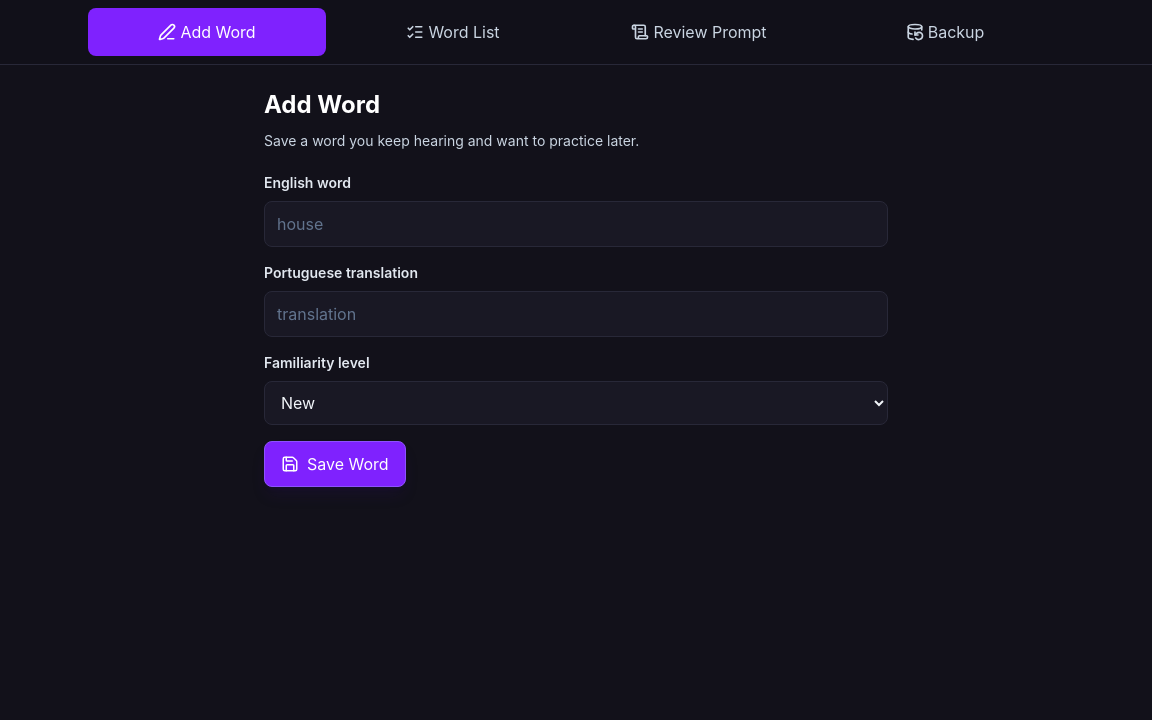
Test: WordCatcher app › deletes a word after confirmation
The width and height of the screenshot is (1152, 720).
In the field labelled "English word": (576, 224) top-left (264, 201), bottom-right (888, 247), type "delete"
In the field labelled "Portuguese translation": (576, 314) top-left (264, 291), bottom-right (888, 337), type "remove meaning"
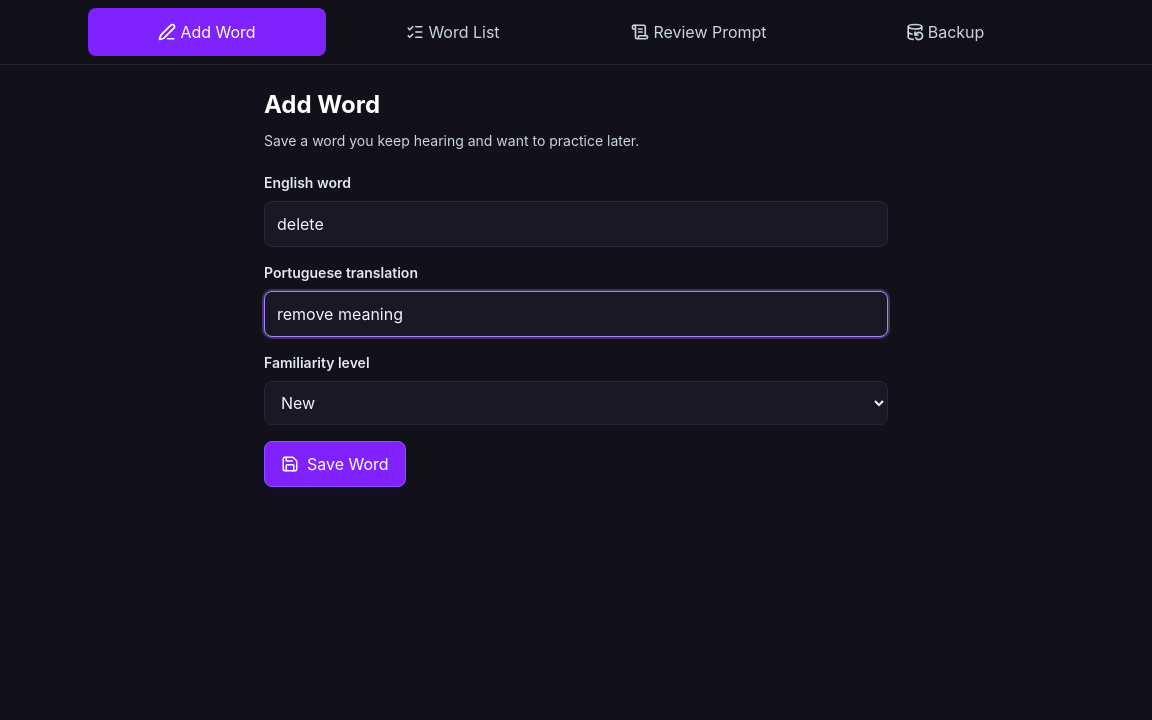
Select "New" in the dropdown labelled "Familiarity level": (576, 403) top-left (264, 381), bottom-right (888, 425)
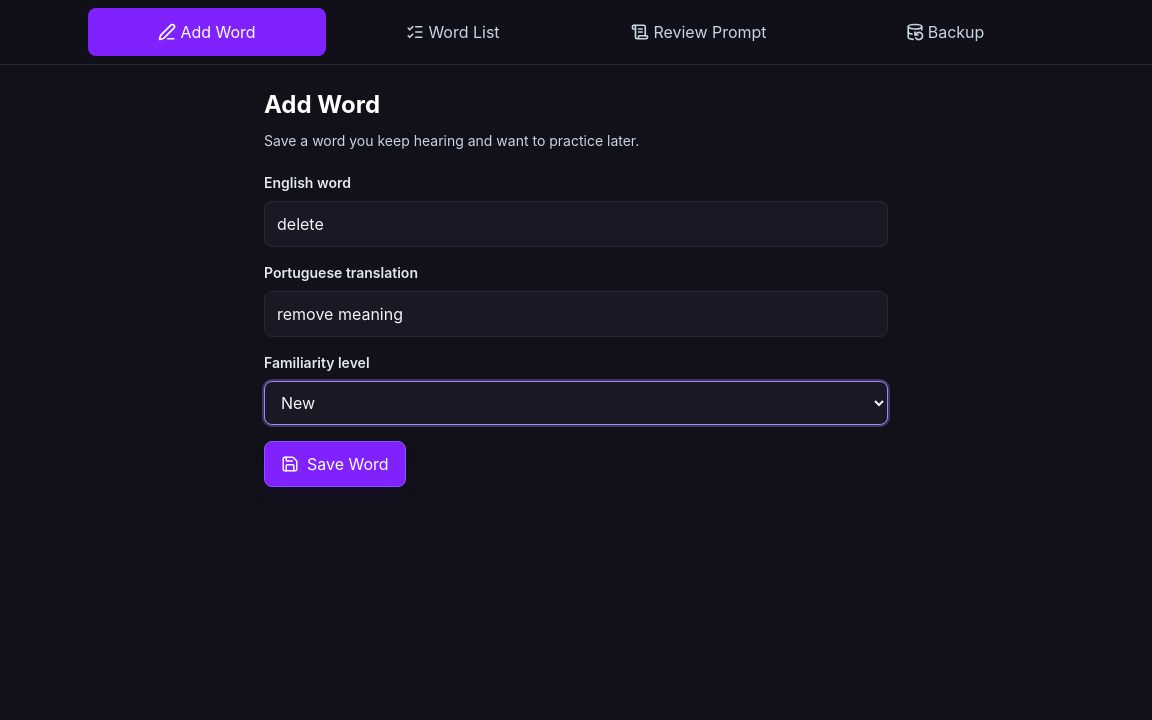
Click the button "Save Word": (335, 464) top-left (264, 441), bottom-right (406, 487)
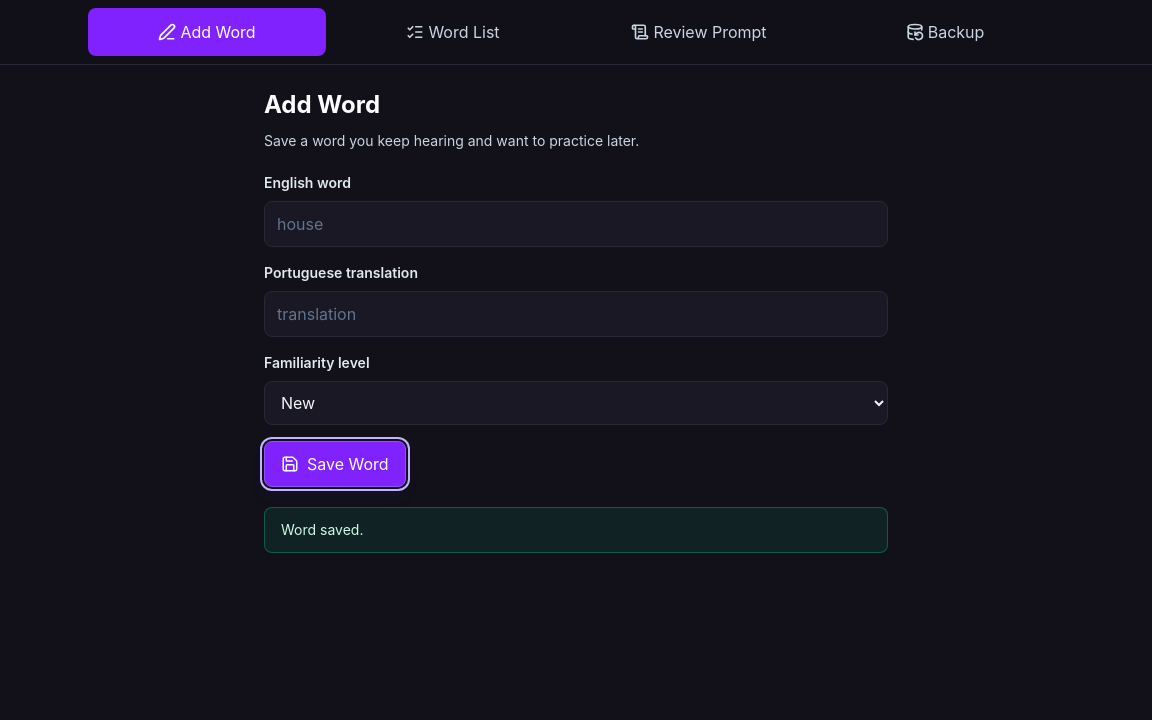
Click the button "Word List": (453, 32) top-left (334, 8), bottom-right (572, 56)
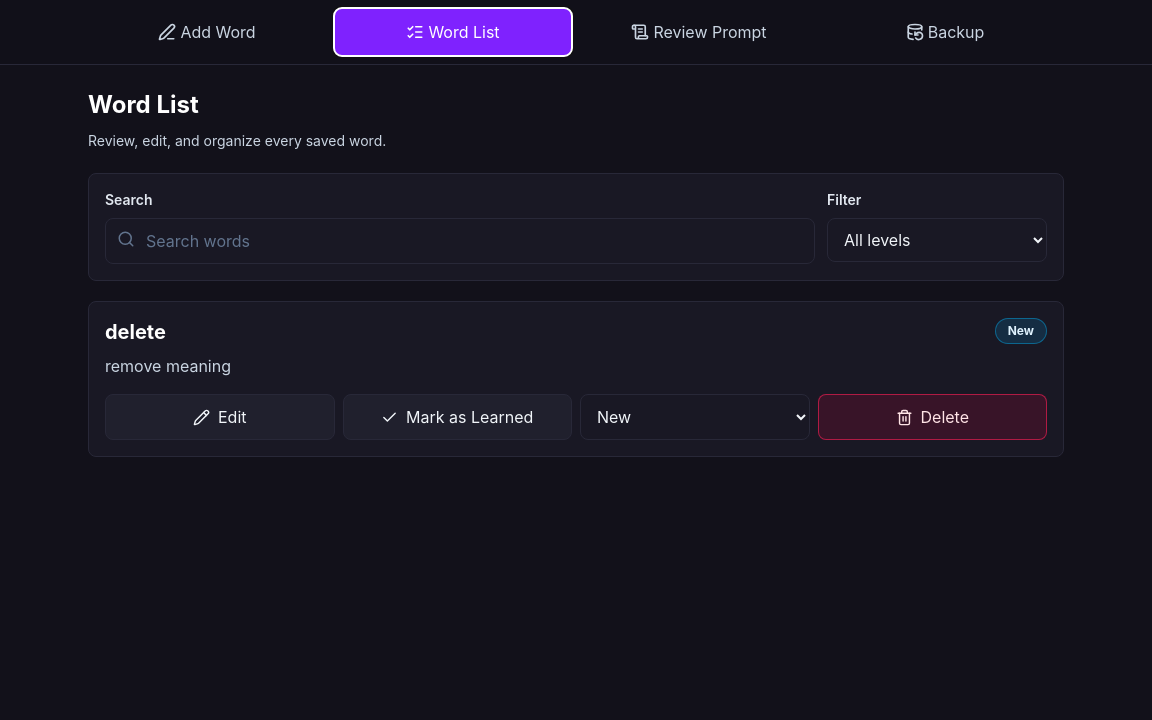
Click the button "Delete": (932, 417) top-left (818, 394), bottom-right (1047, 440)
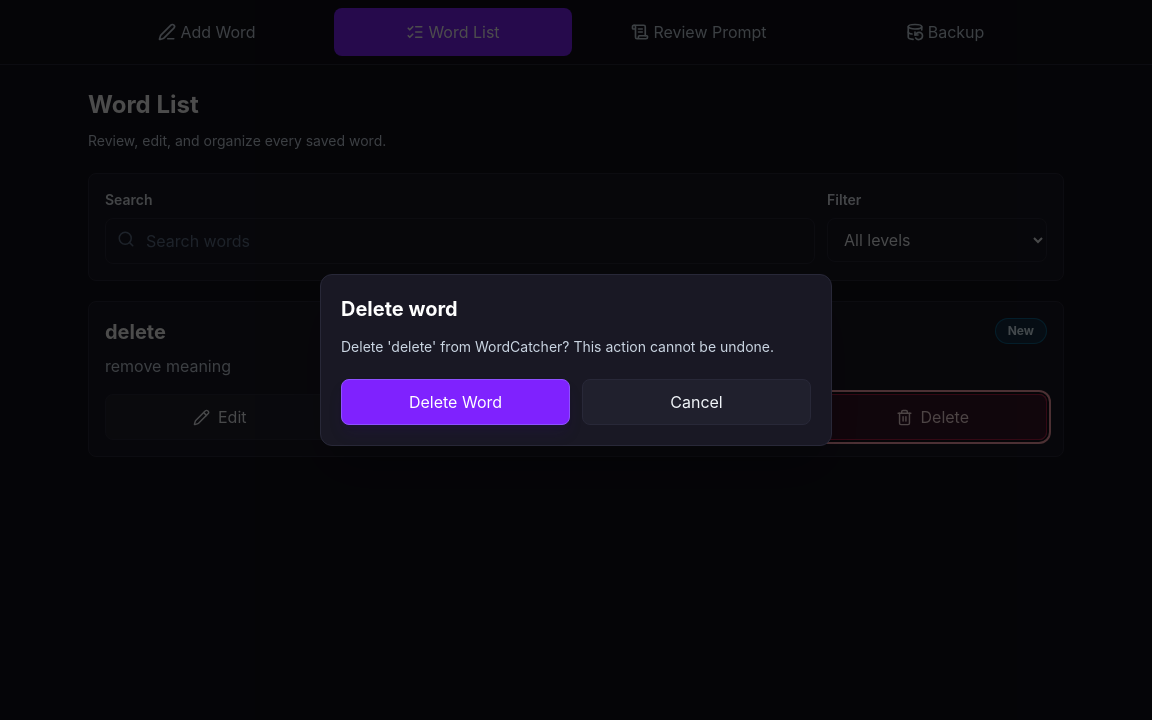
Click the button "Delete Word": (456, 402) top-left (341, 379), bottom-right (570, 425)
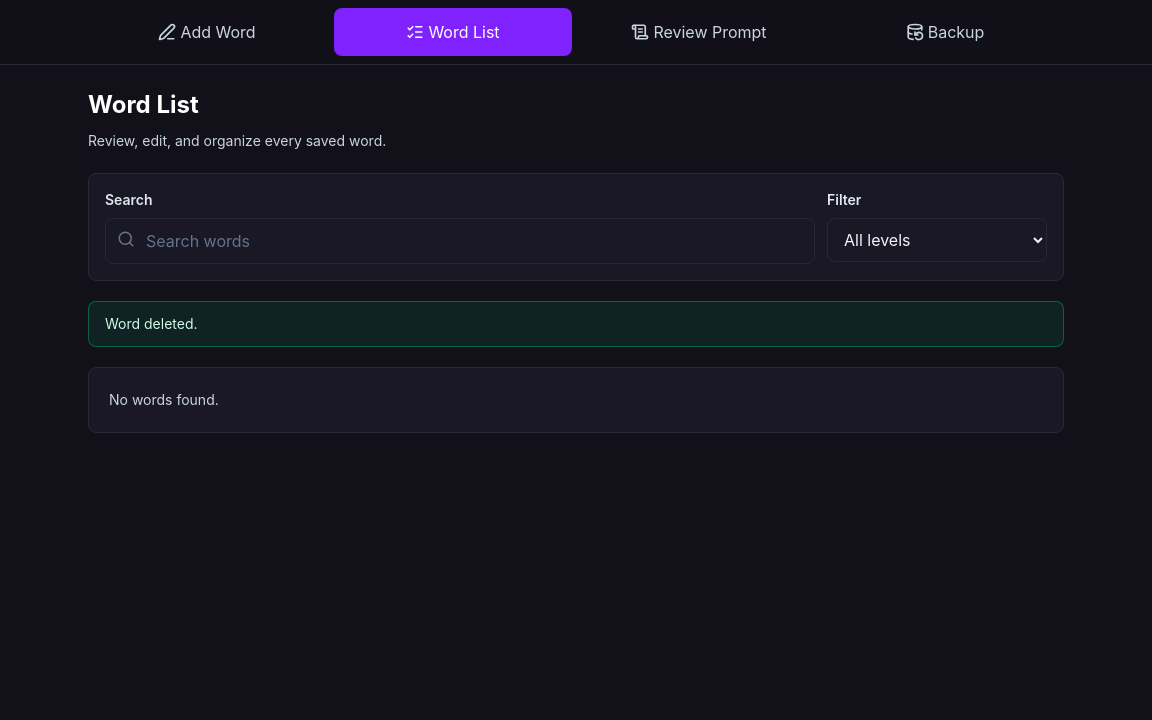
Now the text "Word deleted." is shown, box top-left (88, 301), bottom-right (1064, 347)
